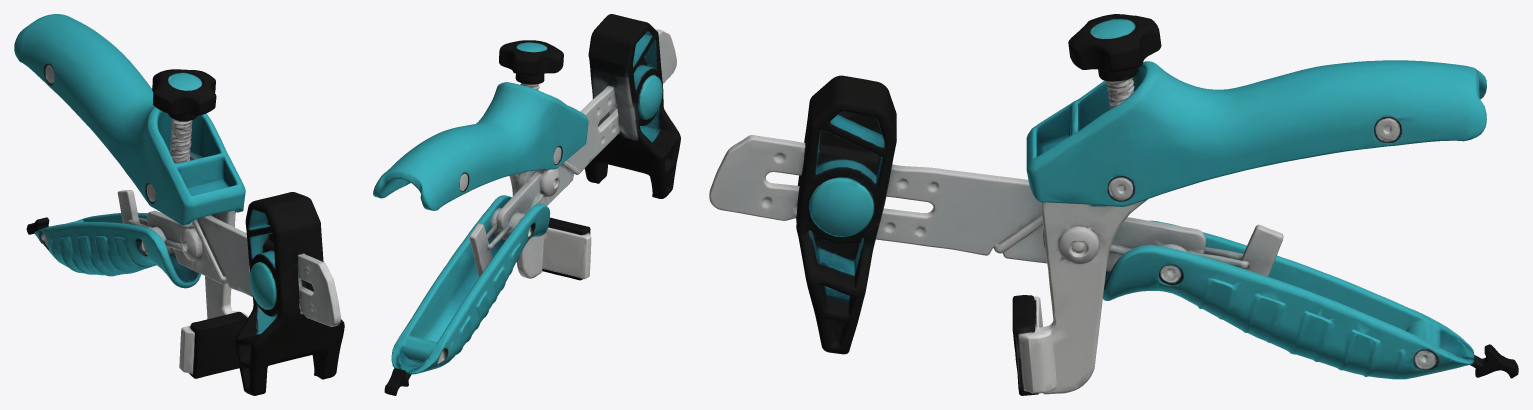
File: leveling-plier.glb
3 renders of one model, left to right at view 1: azimuth 30°, elevation 25°; view 2: azimuth 150°, elevation 25°; view 3: azimuth 270°, elevation 25°, orthographic. The views are drawn at different scales.
Parts seen in each view (by area): view 1: tripo_node_f7de06ab-ee2e-44bc-b1dd-31cc49da47ea; view 2: tripo_node_f7de06ab-ee2e-44bc-b1dd-31cc49da47ea; view 3: tripo_node_f7de06ab-ee2e-44bc-b1dd-31cc49da47ea.
Boxes of the visible parts, left/top/right/bottom form: tripo_node_f7de06ab-ee2e-44bc-b1dd-31cc49da47ea: left=14, top=14, right=344, bottom=395; tripo_node_f7de06ab-ee2e-44bc-b1dd-31cc49da47ea: left=373, top=14, right=680, bottom=395; tripo_node_f7de06ab-ee2e-44bc-b1dd-31cc49da47ea: left=709, top=14, right=1518, bottom=395.
Bounding box in the file's own units: 0.1729 × 0.4843 × 1.
Materials: 1 (1 with a texture image).
